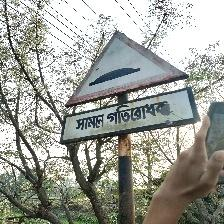Speed-breaker: (62, 30, 200, 144)
